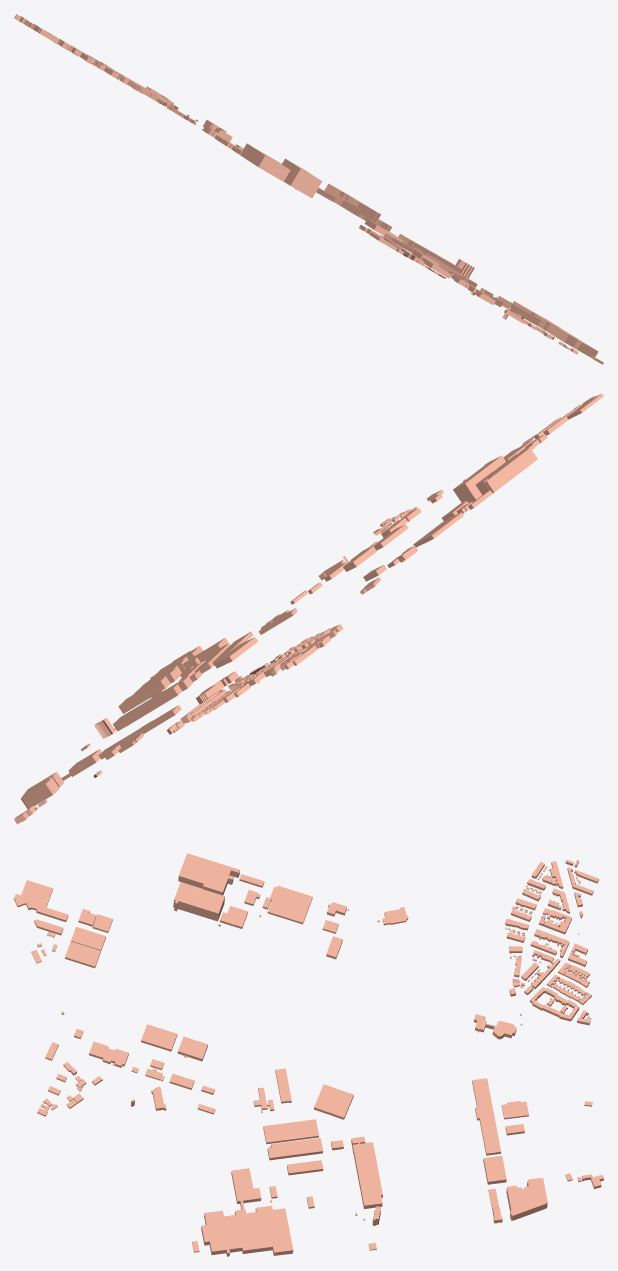
The picture shows the model from 3 angles, top to bottom: view 1: azimuth 30°, elevation 25°; view 2: azimuth 150°, elevation 25°; view 3: azimuth 270°, elevation 25°; orthographic projection. The views are drawn at different scales.
Size of the model in its own units: 804 by 616 by 1272.
